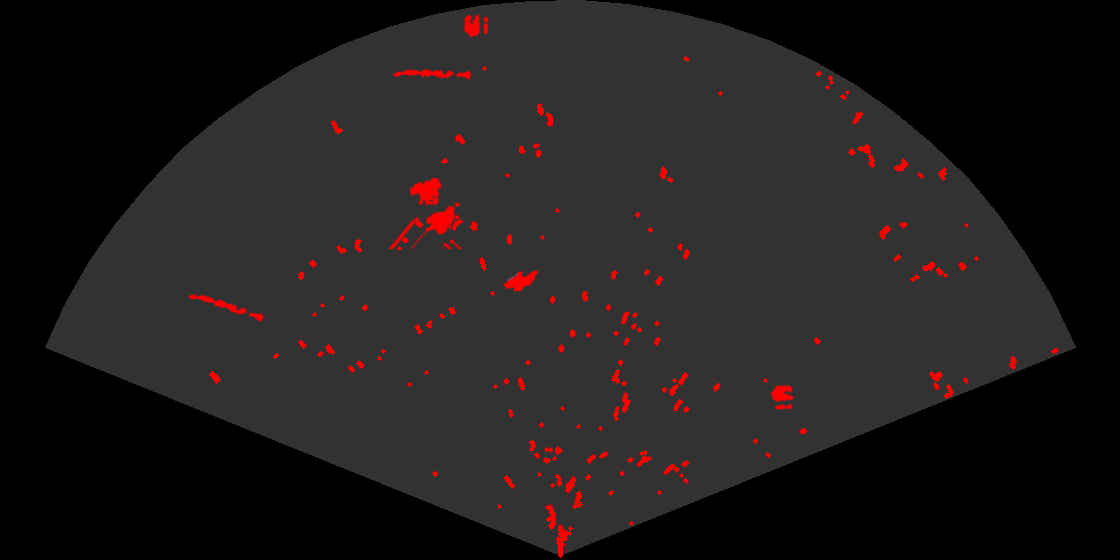AUV: (502, 269, 540, 293)
ball: (462, 12, 490, 39), (769, 384, 796, 411)
cage: (388, 176, 465, 249)
chain: (186, 293, 269, 323), (391, 67, 472, 81)
